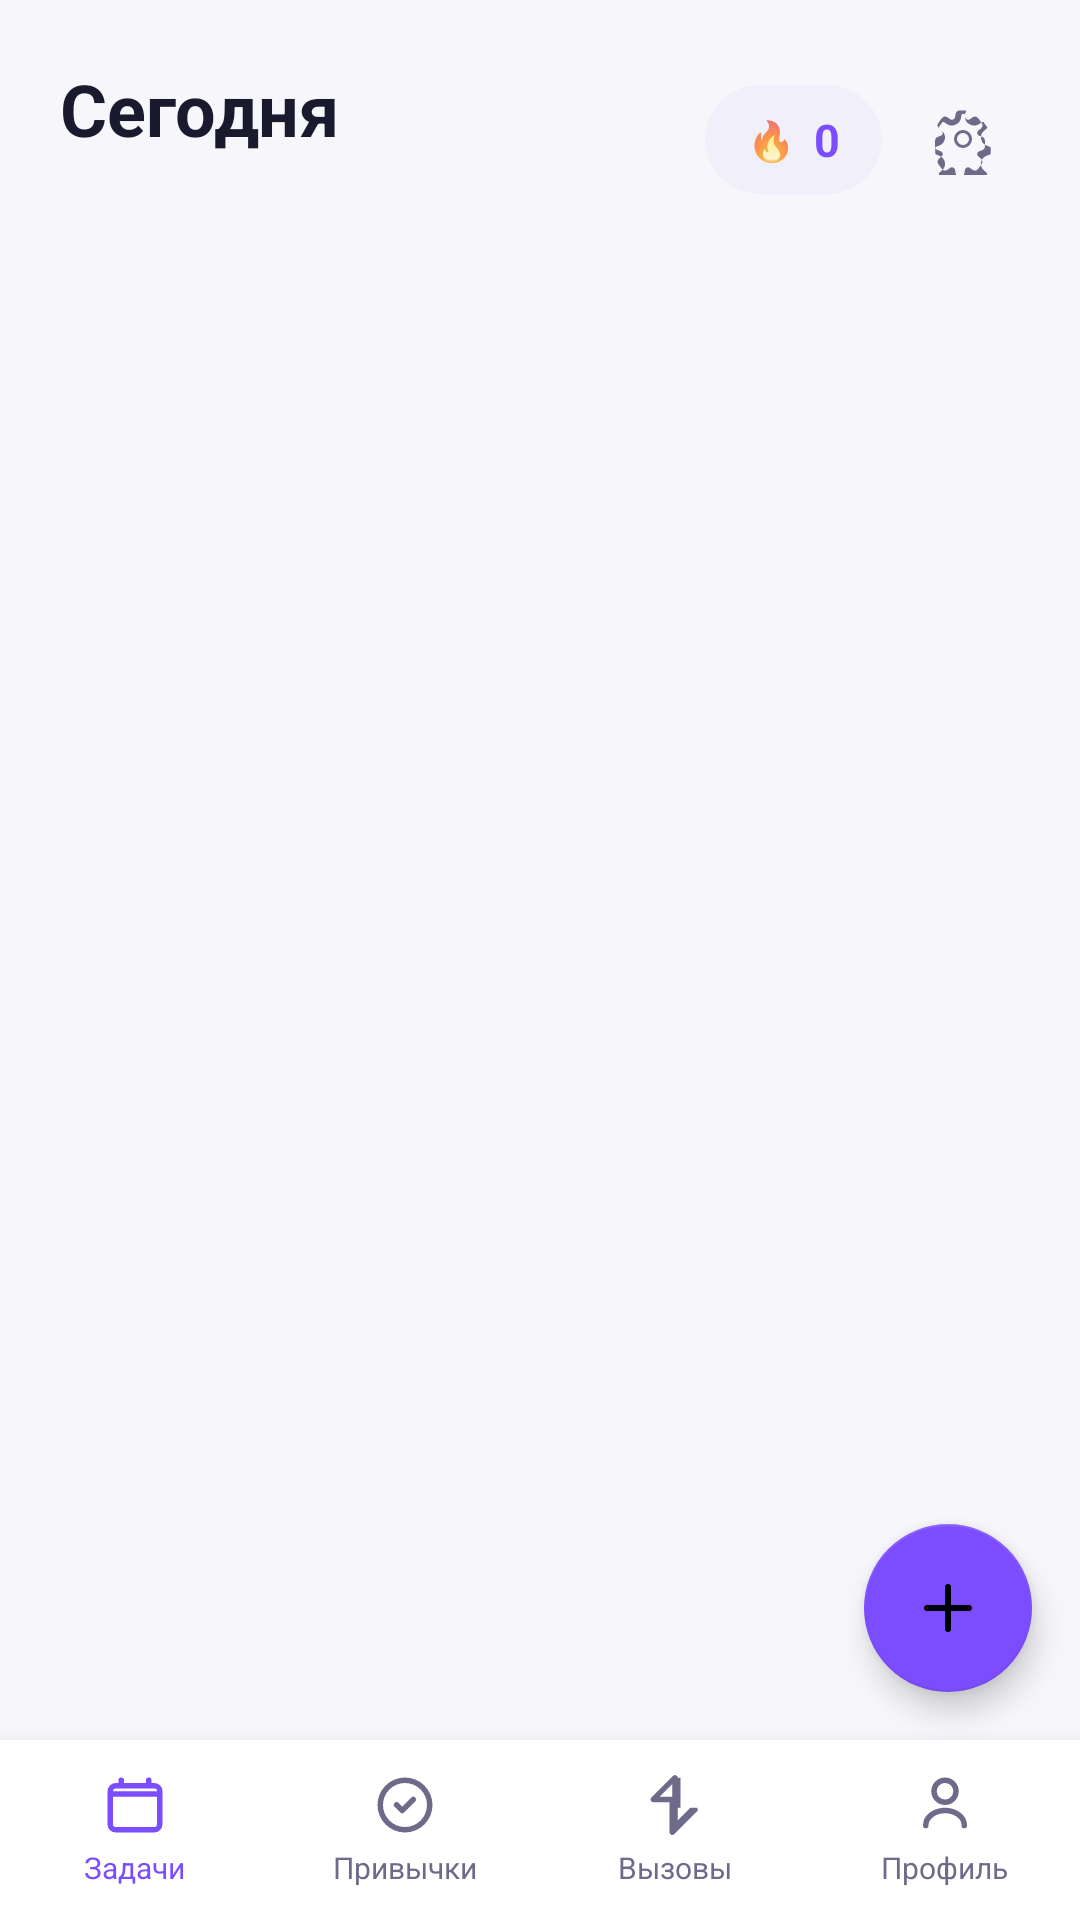

Where icons sit on this 1080 × 1920 app screen, as [x1,y1,x2,y2]:
add: [864,1524,1032,1692]
settings: [935,110,991,175]
today: [107,1777,163,1833]
